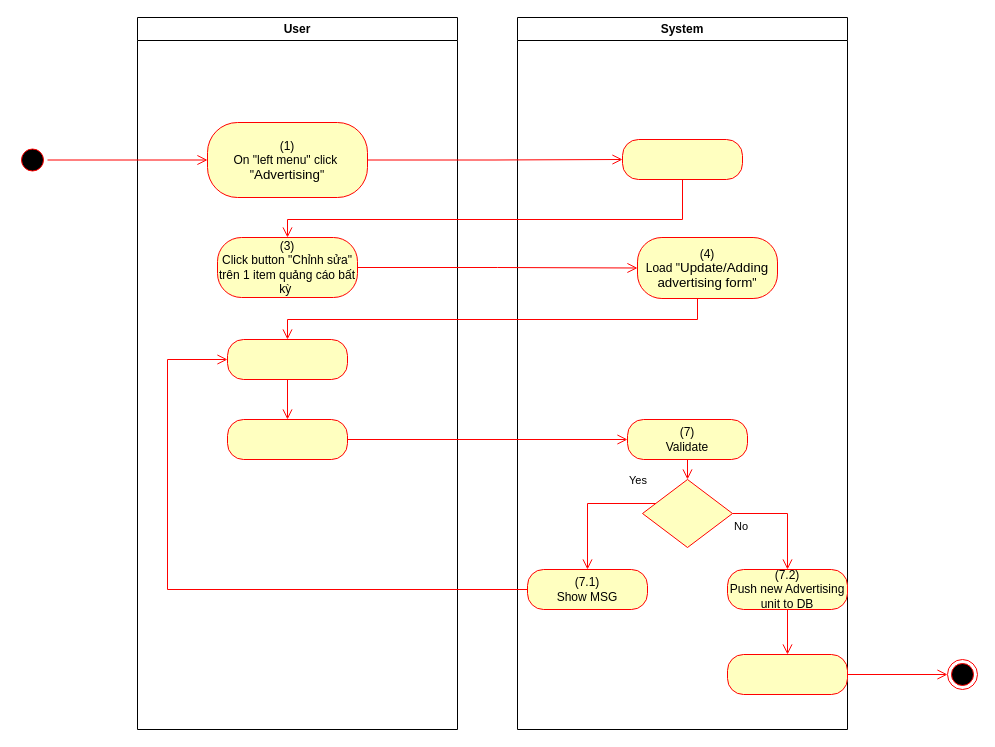
Some shapes in this 995 by 747 pixel diagram are drawn without their labels. The shapes that lost their labels are listed below. From the top down, each one's centre as x and y in pixels, then its label:
the point at 682,159: (2) Load " List Advertising View "
the point at 287,359: (5) Giving input
the point at 287,439: (6) Click "Lưu"
the point at 787,674: (8) Update UI
